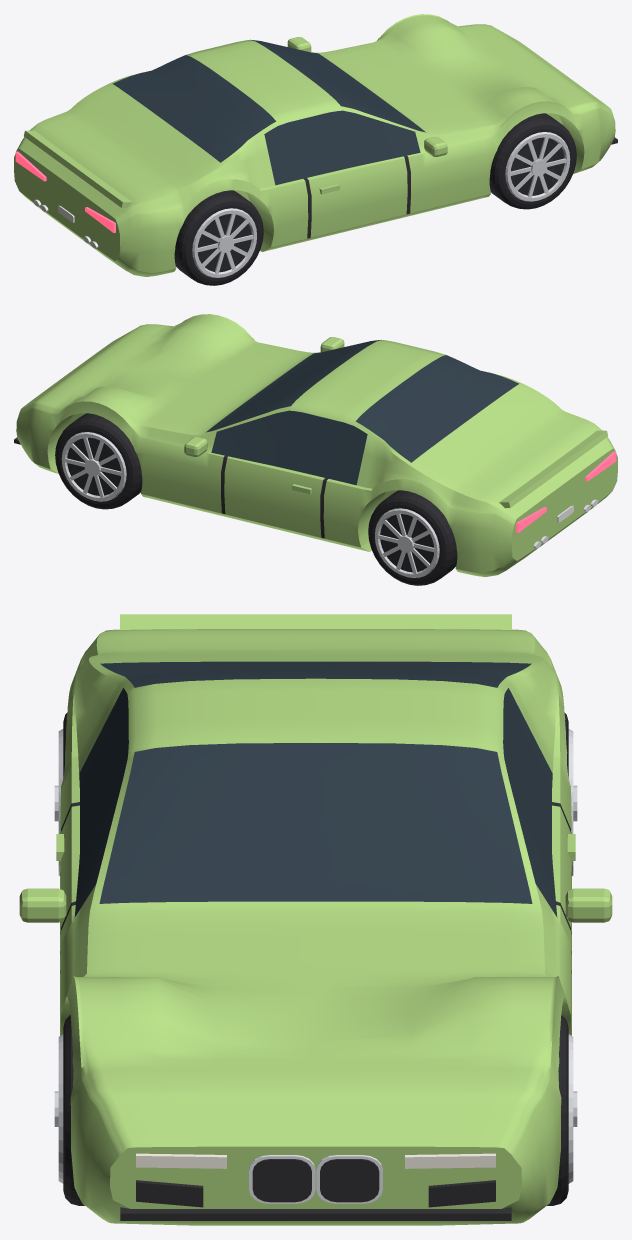
Rendered from bmv_m4.fbx.
The picture shows the model from 3 angles, top to bottom: view 1: azimuth 30°, elevation 25°; view 2: azimuth 150°, elevation 25°; view 3: azimuth 270°, elevation 25°; orthographic projection. The views are drawn at different scales.
Parts seen in each view (by area): view 1: Body.011, Glass.011, Tire.011, Rim.011, Trim.011, TailLight.011; view 2: Body.011, Glass.011, Tire.011, Rim.011, Trim.011, TailLight.011; view 3: Body.011, Glass.011, Trim.011, Tire.011, Rim.011, HeadLight.011, Chrome.010.
Boxes of the visible parts, box(x1,y1,x2,y2) form: Body.011: box(14, 14, 615, 276); Glass.011: box(112, 40, 425, 185); Tire.011: box(174, 113, 576, 285); Rim.011: box(192, 132, 570, 277); Trim.011: box(198, 137, 617, 271); TailLight.011: box(15, 151, 115, 232); Body.011: box(16, 314, 617, 576); Glass.011: box(206, 340, 519, 485); Tire.011: box(55, 413, 457, 585); Rim.011: box(61, 432, 439, 577); Trim.011: box(14, 437, 433, 572); TailLight.011: box(516, 451, 616, 532); Body.011: box(19, 614, 612, 1225); Glass.011: box(74, 661, 557, 917); Trim.011: box(60, 802, 571, 1220); Tire.011: box(63, 713, 568, 1205); Rim.011: box(54, 729, 577, 1183); HeadLight.011: box(136, 1153, 495, 1168); Chrome.010: box(249, 1155, 382, 1203).
Size of the model in its own units: 1502 by 402 by 764.
